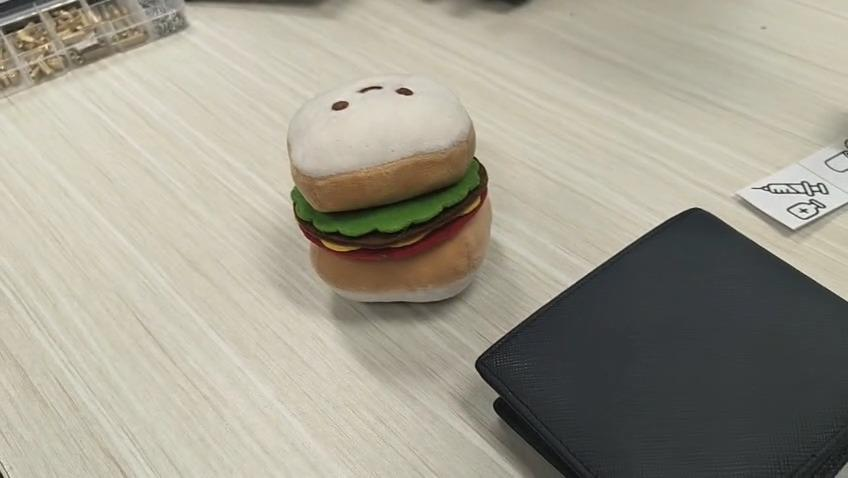objects: (288, 67, 490, 304)
